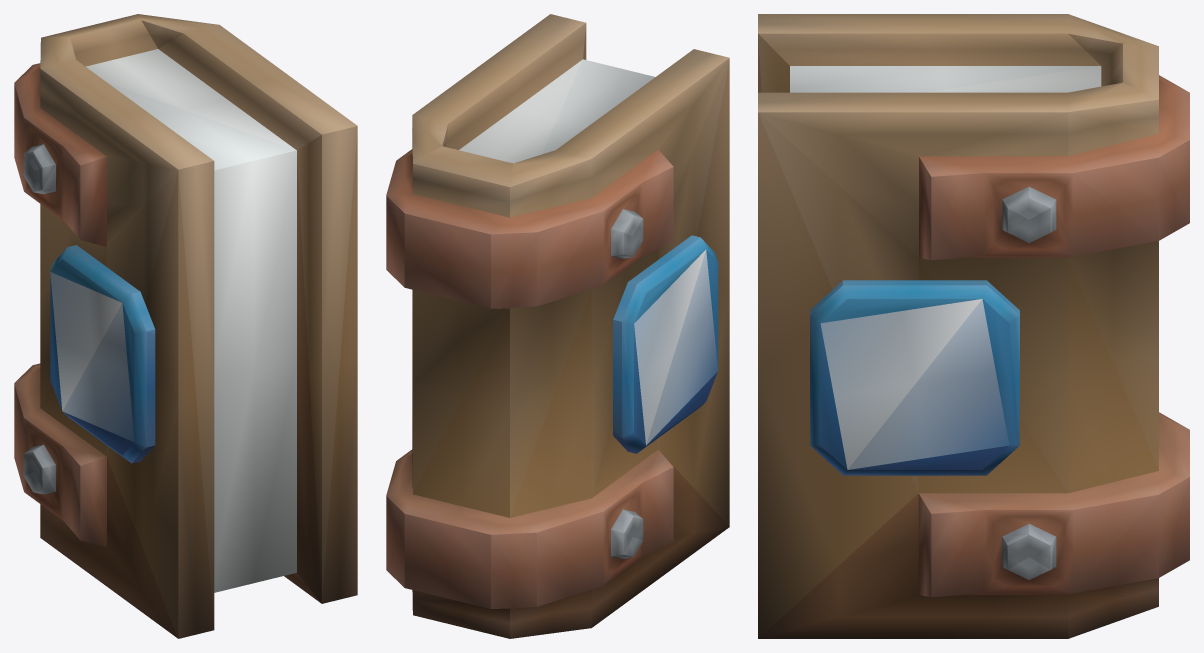
Rendered from prop_book_big.glb.
The picture shows the model from 3 angles, left to right: view 1: azimuth 30°, elevation 25°; view 2: azimuth 150°, elevation 25°; view 3: azimuth 270°, elevation 25°; orthographic projection. The views are drawn at different scales.
Visible parts, largest first — view 1: refined; view 2: refined; view 3: refined.
Part boxes in pixels (x1=…): refined: x1=14, y1=14, x2=357, y2=638; refined: x1=386, y1=14, x2=729, y2=638; refined: x1=758, y1=14, x2=1189, y2=638.
Size of the model in its own units: 0.2548 by 0.5 by 0.3714.
